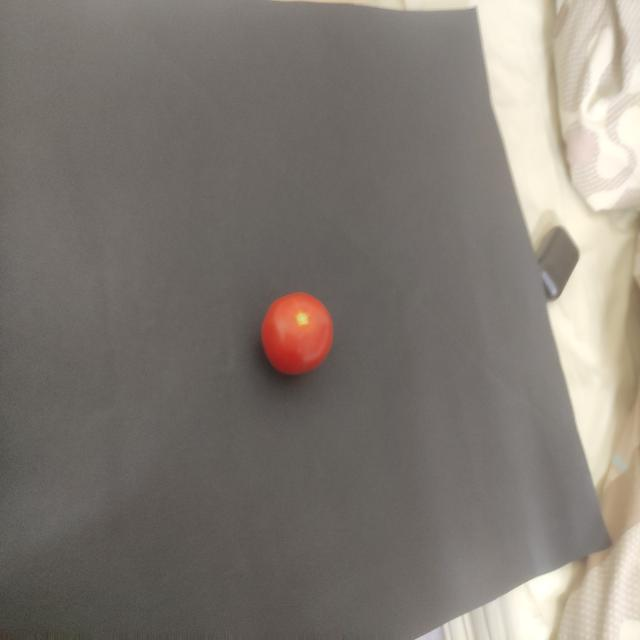kirmizi: (248, 272, 346, 403)
